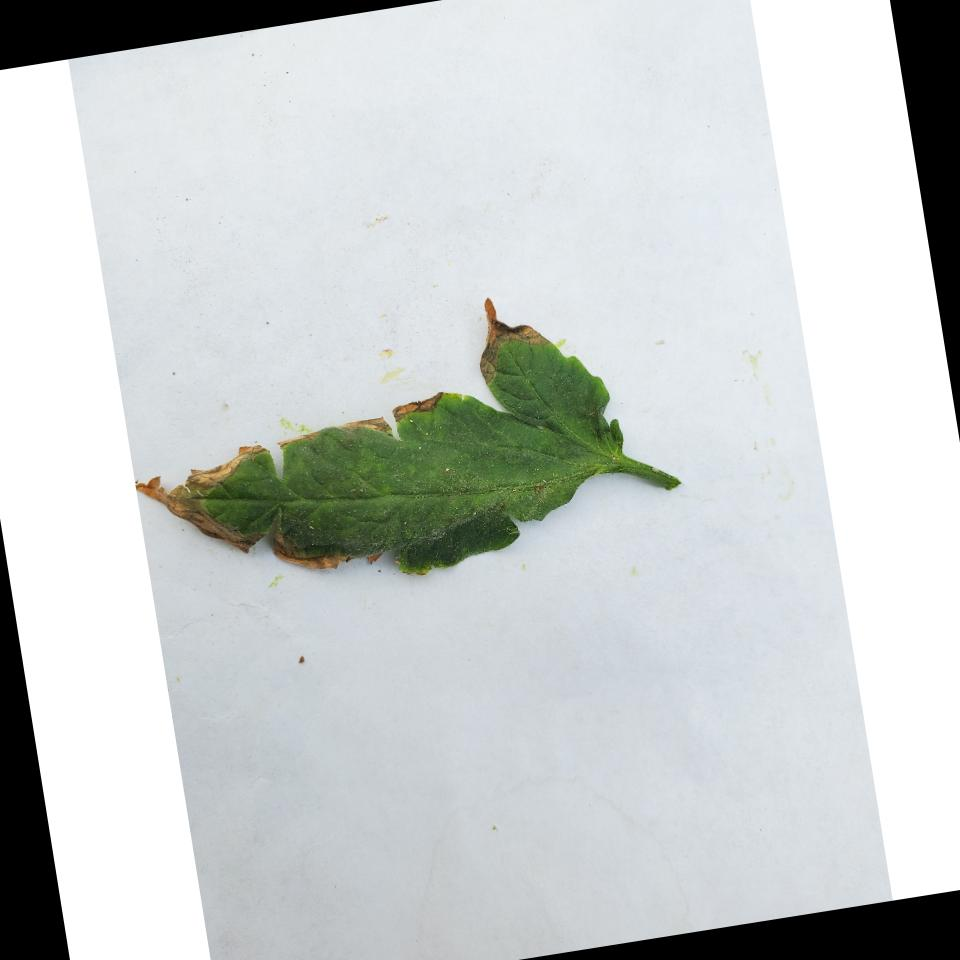tomato_bacterial_blight: (122, 322, 690, 625)
